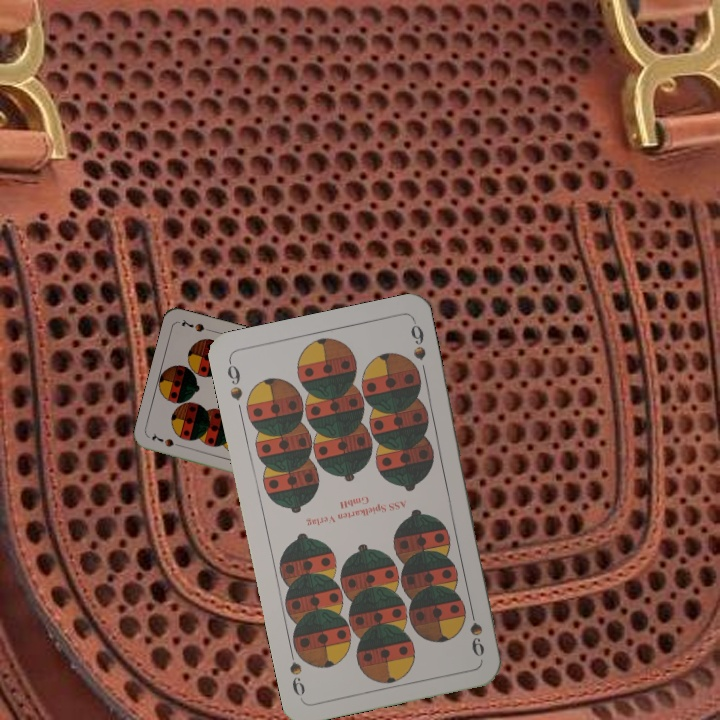S7: (148, 430, 187, 451)
S9: (465, 602, 487, 660), (223, 356, 246, 403)
